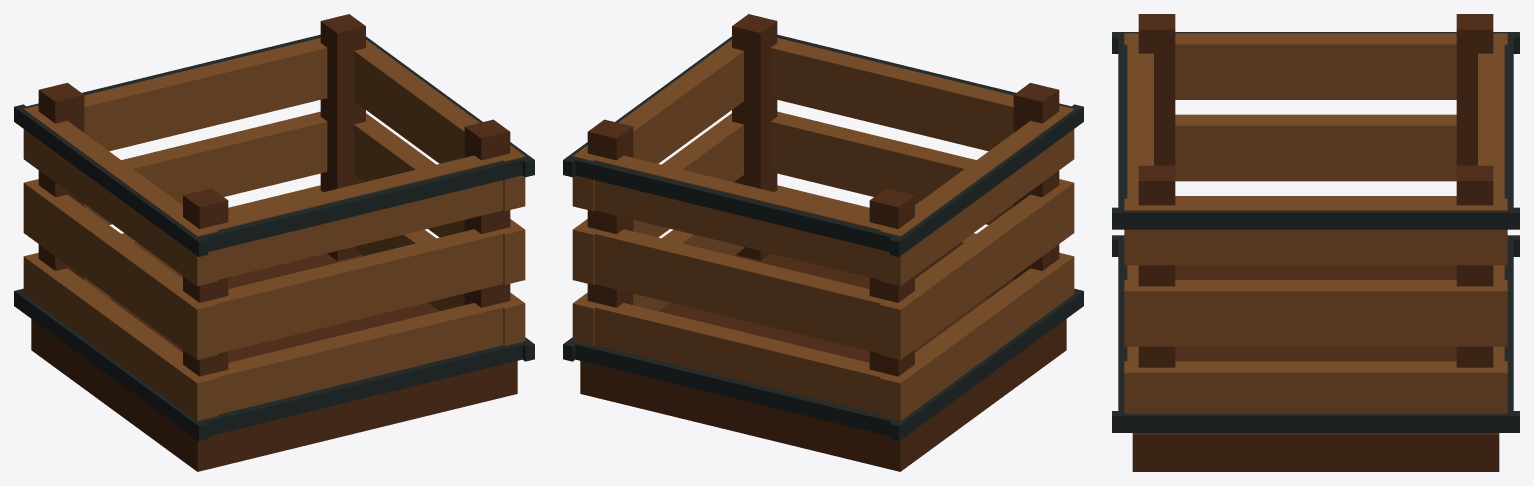
File: vf_catch_basket.obj
The picture shows the model from 3 angles, left to right: view 1: azimuth 30°, elevation 25°; view 2: azimuth 150°, elevation 25°; view 3: azimuth 270°, elevation 25°; orthographic projection. The views are drawn at different scales.
Parts seen in each view (by area): view 1: Static_OakLight, Static_Oak, Static_Iron; view 2: Static_OakLight, Static_Oak, Static_Iron; view 3: Static_OakLight, Static_Oak, Static_Iron.
Boxes of the visible parts, <box> form: Static_OakLight: <box>23,38,525,420</box>; Static_Oak: <box>31,14,517,471</box>; Static_Iron: <box>14,34,534,441</box>; Static_OakLight: <box>572,38,1074,420</box>; Static_Oak: <box>580,14,1066,471</box>; Static_Iron: <box>563,34,1083,441</box>; Static_OakLight: <box>1124,33,1507,413</box>; Static_Oak: <box>1132,14,1499,471</box>; Static_Iron: <box>1112,32,1519,432</box>.
Size of the model in its own units: 1.05 by 0.78 by 1.
